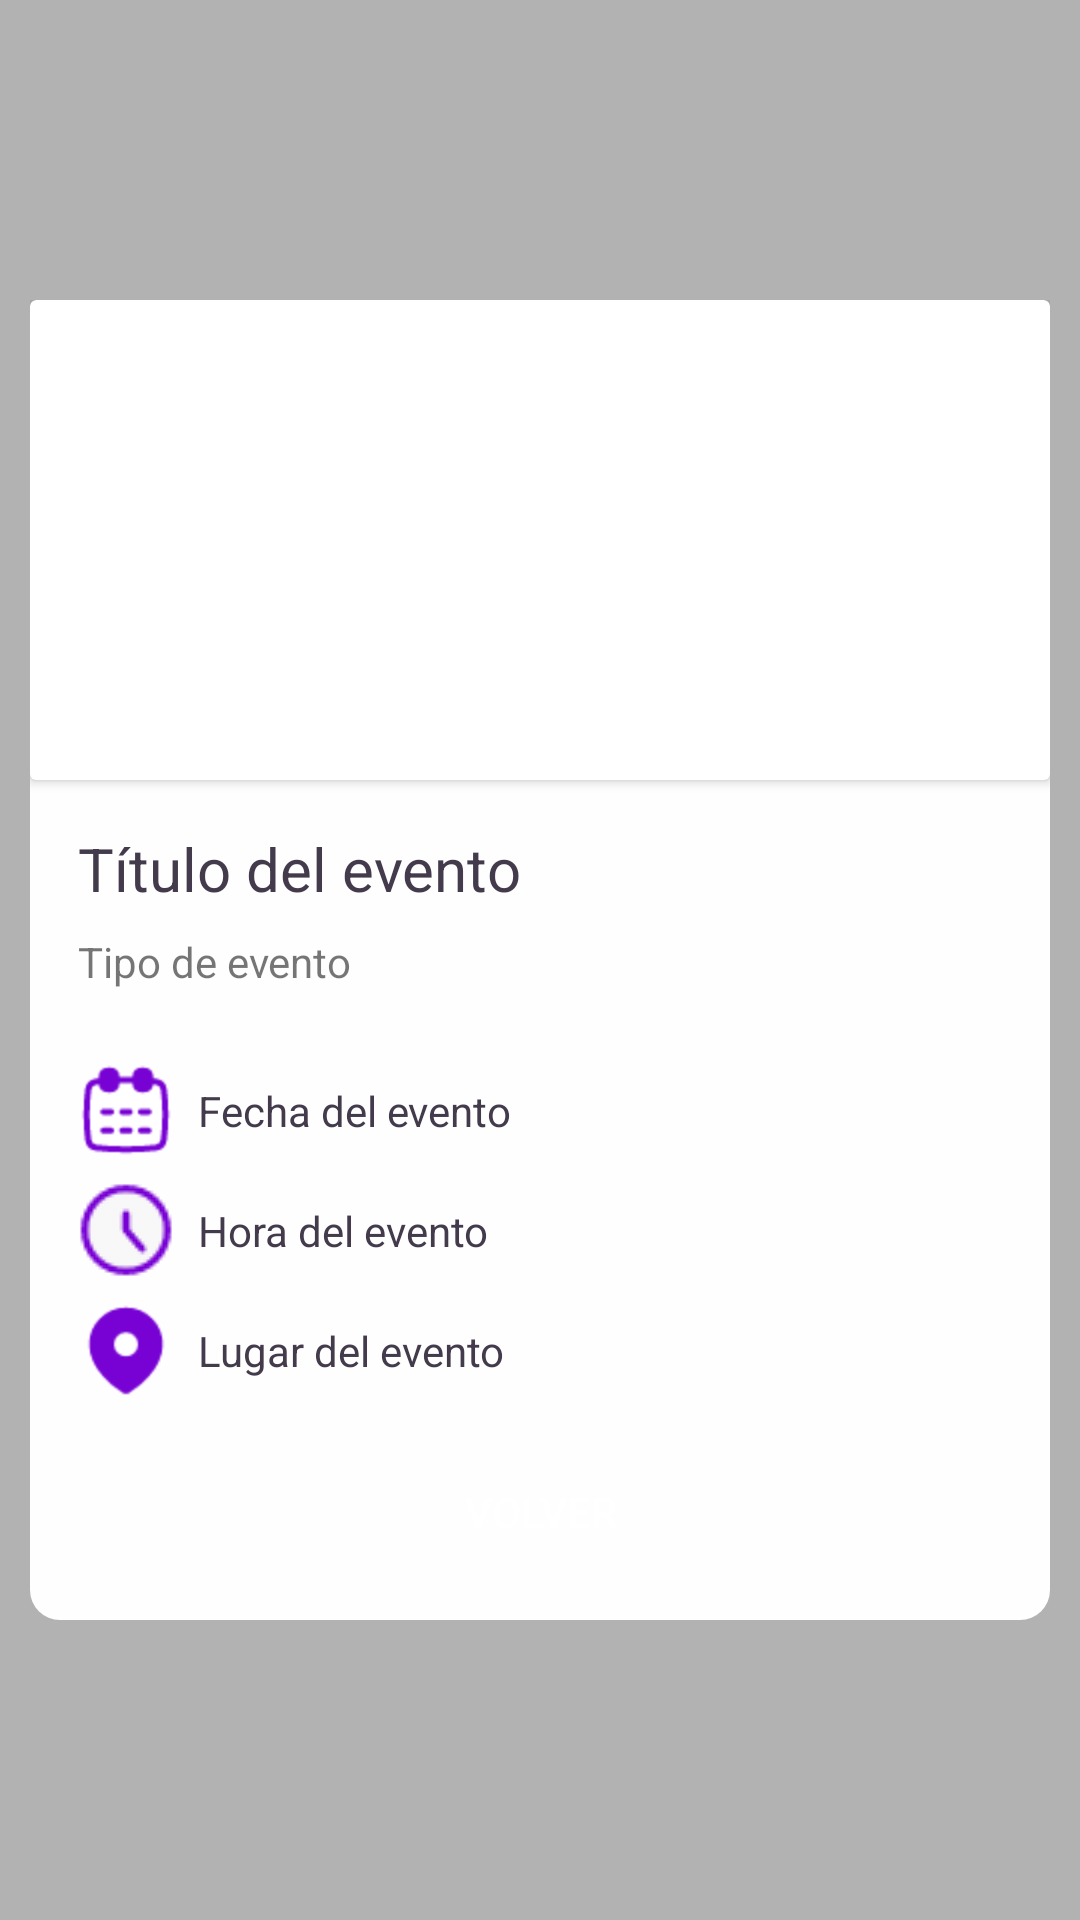

Icon bounding boxes for this 1080 x 1920 phone screenshot, format [x1=x1, y1=y1, x2=x2, y2=y2]:
calendar: [x1=82, y1=1066, x2=170, y2=1154]
clock: [x1=80, y1=1184, x2=172, y2=1276]
location: [x1=88, y1=1306, x2=164, y2=1395]
